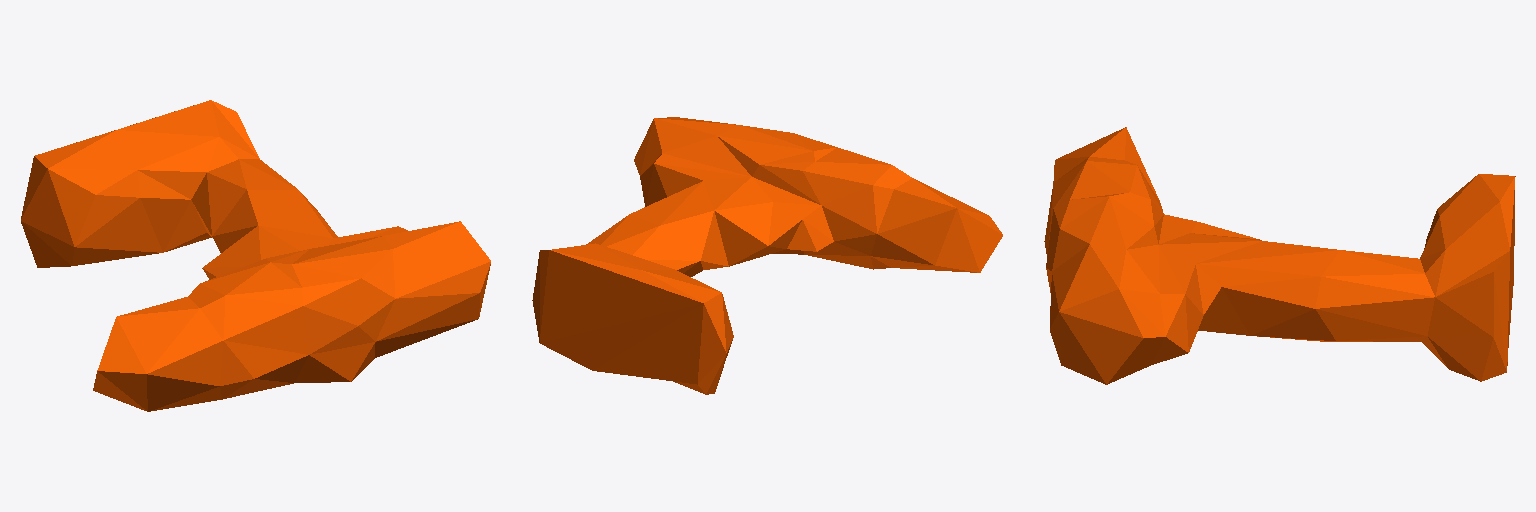
URDF robot description (power_drill_oriented):
<?xml version="1.0" ?>
<robot name="power_drill_oriented">
   <material name="obj_color">
      <color rgba="1.0 0.423529411765 0.0392156862745 1.0"/>
   </material>
   <link name="top">
      <inertial>
         <origin rpy="0.0003708926581487425 0.001005796129054008 0.001312846205295588" xyz="0.007053542203033665 0.007393742378196368 -0.0002526866093437576"/>
         <mass value="0.24875"/>
         <inertia ixx="0.0009926647043719387" ixy="-9.186996377662436e-05" ixz="-8.813253781578191e-06" iyy="0.0003848734250966644" iyz="2.086038378465257e-05" izz="0.001311996863029736"/>
      </inertial>
      <visual>
         <origin rpy="0 0 0" xyz="0 0 0"/>
         <geometry>
            <mesh filename="top_watertight_tiny.stl" scale="1 1 1"/>
         </geometry>
         <material name="obj_color"/>
      </visual>
      <collision>
         <origin rpy="0 0 0" xyz="0 0 0"/>
         <geometry>
            <mesh filename="top_watertight_tiny.obj" scale="1 1 1"/>
         </geometry>
      </collision>
   </link>
   <link name="bottom">
      <inertial>
         <origin rpy="1.633333333194242e-08 1.633333333194243e-08 1.633333333357667e-08" xyz="0.3464080000000008 0.3464080000000008 0.3464080000000008"/>
         <mass value="0.0009800000000000017"/>
         <inertia ixx="1.633333333248717e-08" ixy="5.447480642029219e-19" ixz="5.447480642029219e-19" iyy="1.633333333248717e-08" iyz="5.447480642029219e-19" izz="1.633333333248717e-08"/>
      </inertial>
      <visual>
         <origin rpy="0 0 0" xyz="0 0 0"/>
         <geometry>
            <mesh filename="bottom_watertight_tiny.stl" scale="1 1 1"/>
         </geometry>
         <material name="obj_color"/>
      </visual>
   </link>
   <joint name="rotation" type="revolute">
      <origin xyz="0 0 0"/>
      <axis xyz="0 0 -1"/>
      <parent link="bottom"/>
      <child link="top"/>
      <dynamics damping="1.0" friction="1.0"/>
      <limit effort="0.1" velocity="0.1" lower="0" upper="0.001"/>
   </joint>
</robot>

--- What the picture shows (computed from the rendered views, not written in the file) ---
The picture shows the robot from 3 angles, left to right: view 1: azimuth 30°, elevation 25°; view 2: azimuth 150°, elevation 25°; view 3: azimuth 270°, elevation 25°; orthographic projection.
Model power_drill_oriented with 2 links and 1 joints (1 revolute), rooted at bottom, posed all joints at 0.
Links seen in each view (by area): view 1: top; view 2: top; view 3: top.
Link boxes in pixels (x1,y1,x2,y2): top: (21, 100, 490, 411); top: (532, 117, 1002, 394); top: (1044, 127, 1515, 384).
Size in the robot's own frame: 0.1871 by 0.1846 by 0.0573 metres.
Meshes: 2 distinct files referenced, 1 mesh visuals loaded (1 binary STL); not drawn: 1 (reference not matched to a file when rendering).
